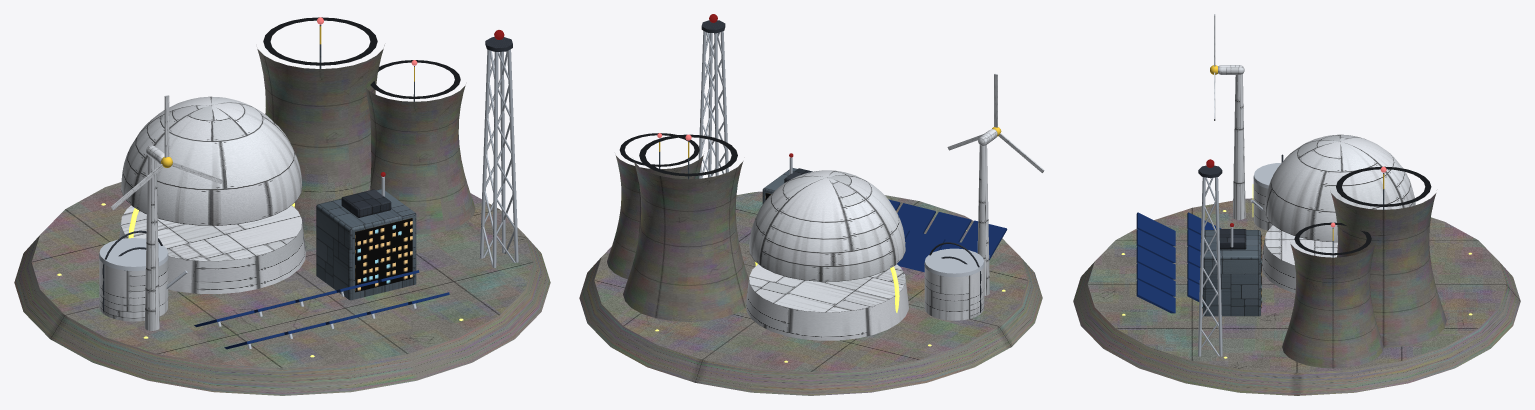
Rendered from power-T5.glb.
3 renders of one model, left to right at view 1: azimuth 30°, elevation 25°; view 2: azimuth 150°, elevation 25°; view 3: azimuth 270°, elevation 25°, orthographic. The views are drawn at different scales.
Parts seen in each view (by area): view 1: object 1, object 13, object 15, object 19, object 12, object 23, object 24, object 102, object 29, object 103, object 16, anim:rotZ (+2 smaller); view 2: object 1, object 15, object 13, object 12, object 19, object 102, object 29, object 103, object 34, object 44, object 16, object 46 (+3 smaller); view 3: object 1, object 15, object 13, object 19, object 23, object 12, object 29, object 16, object 50, object 42, object 46, object 44 (+5 smaller).
Boxes of the visible parts, x1=… form: object 1: x1=14, y1=182, x2=550, y2=395; object 13: x1=121, y1=96, x2=302, y2=225; object 15: x1=257, y1=45, x2=384, y2=233; object 19: x1=365, y1=85, x2=475, y2=234; object 12: x1=119, y1=205, x2=305, y2=293; object 23: x1=316, y1=189, x2=416, y2=300; object 24: x1=355, y1=218, x2=412, y2=292; object 102: x1=99, y1=258, x2=168, y2=321; object 29: x1=144, y1=156, x2=159, y2=330; object 103: x1=99, y1=238, x2=168, y2=270; object 16: x1=263, y1=17, x2=377, y2=65; anim:rotZ: x1=111, y1=95, x2=222, y2=210; object 1: x1=579, y1=191, x2=1042, y2=395; object 15: x1=623, y1=161, x2=748, y2=321; object 13: x1=749, y1=170, x2=905, y2=281; object 12: x1=746, y1=264, x2=908, y2=340; object 19: x1=607, y1=155, x2=703, y2=279; object 102: x1=924, y1=266, x2=984, y2=320; object 29: x1=977, y1=145, x2=989, y2=295; object 103: x1=924, y1=248, x2=984, y2=277; object 34: x1=897, y1=231, x2=945, y2=272; object 44: x1=926, y1=212, x2=971, y2=249; object 16: x1=639, y1=134, x2=737, y2=176; object 46: x1=897, y1=203, x2=935, y2=242; object 1: x1=1073, y1=198, x2=1520, y2=395; object 15: x1=1330, y1=192, x2=1446, y2=347; object 13: x1=1264, y1=134, x2=1415, y2=242; object 19: x1=1282, y1=244, x2=1383, y2=368; object 23: x1=1203, y1=230, x2=1260, y2=316; object 12: x1=1261, y1=225, x2=1337, y2=293; object 29: x1=1232, y1=74, x2=1245, y2=219; object 16: x1=1336, y1=166, x2=1431, y2=206; object 50: x1=1136, y1=279, x2=1175, y2=313; object 42: x1=1136, y1=212, x2=1175, y2=246; object 46: x1=1136, y1=246, x2=1175, y2=279; object 44: x1=1136, y1=229, x2=1175, y2=262.
Bounding box in the file's own units: 6.2 × 3.81 × 6.2.
Materials: 17 (7 with a texture image).
